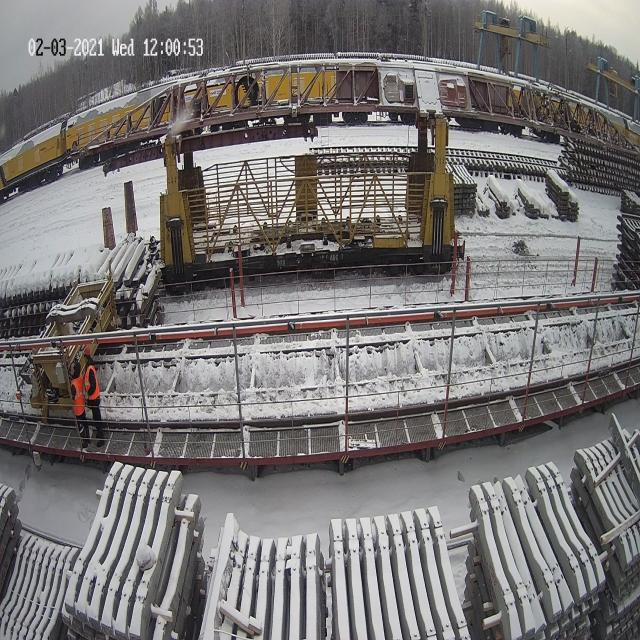Helmet: (83, 346, 90, 356)
Person: (83, 346, 105, 446), (70, 361, 90, 448)
